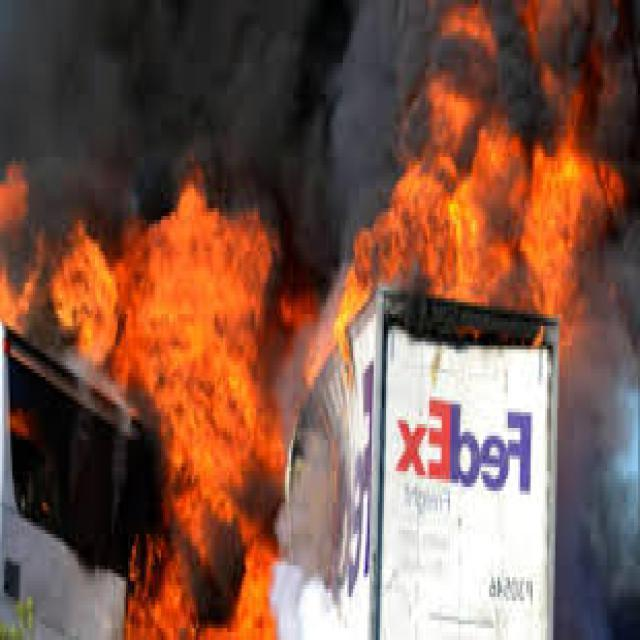Fire: (0, 177, 295, 640), (316, 1, 632, 348)
Smoke: (13, 0, 395, 233), (555, 300, 632, 640), (278, 466, 354, 614)
